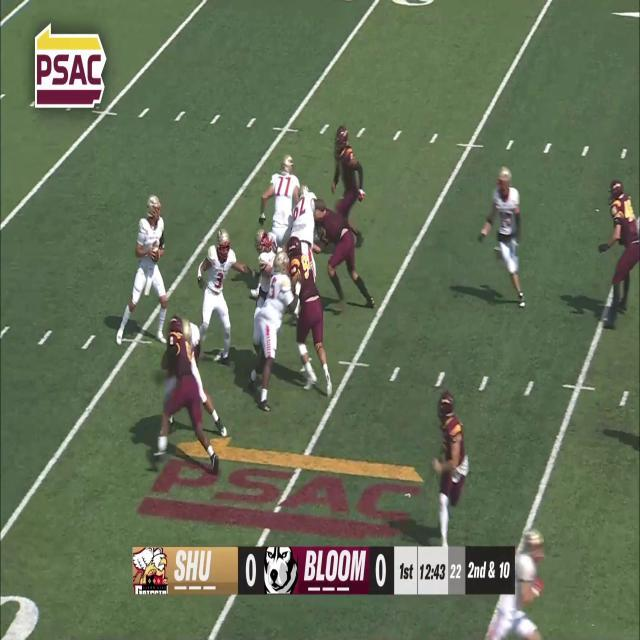football: (150, 242, 159, 260)
